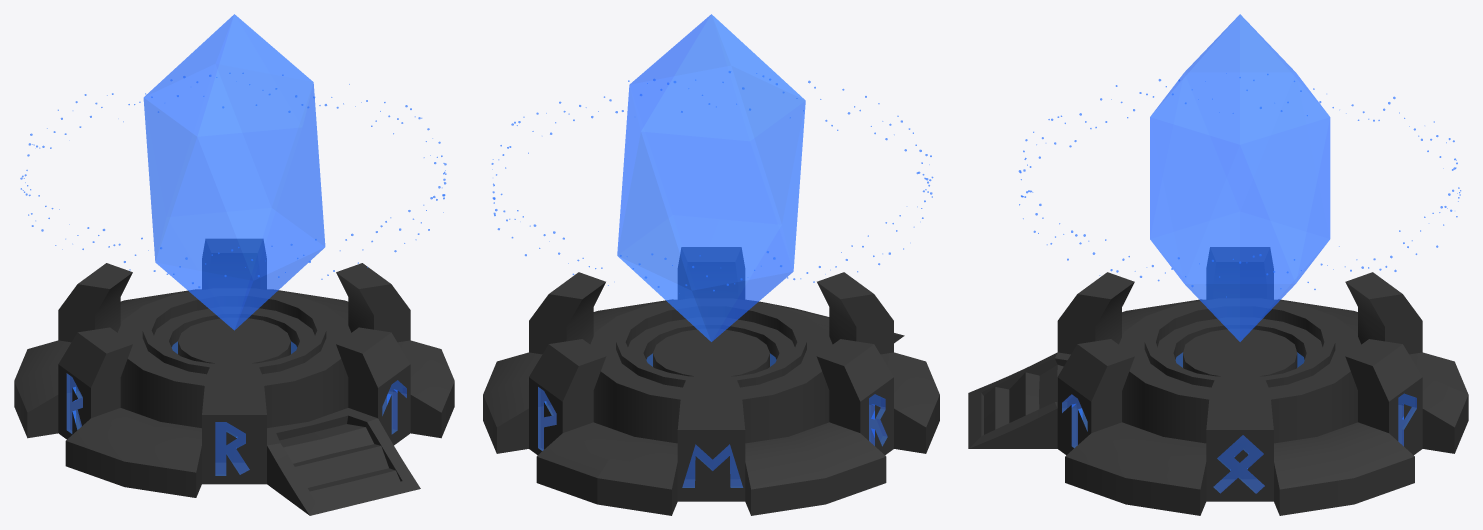
The model's file is towerB.fbx.
The picture shows the model from 3 angles, left to right: view 1: azimuth 30°, elevation 25°; view 2: azimuth 150°, elevation 25°; view 3: azimuth 270°, elevation 25°; orthographic projection. The views are drawn at different scales.
Visible parts, largest first — view 1: Cylinder, Icosphere, geo; view 2: Cylinder, Icosphere, geo; view 3: Cylinder, Icosphere, geo.
Part boxes in pixels (x1=…): Cylinder: x1=14, y1=239, x2=454, y2=515; Icosphere: x1=143, y1=14, x2=325, y2=330; geo: x1=20, y1=73, x2=446, y2=288; Cylinder: x1=483, y1=247, x2=939, y2=515; Icosphere: x1=617, y1=14, x2=805, y2=341; geo: x1=491, y1=71, x2=933, y2=293; Cylinder: x1=968, y1=247, x2=1468, y2=515; Icosphere: x1=1150, y1=14, x2=1330, y2=341; geo: x1=1018, y1=74, x2=1461, y2=297.
Size of the model in its own units: 284 by 287 by 316.
